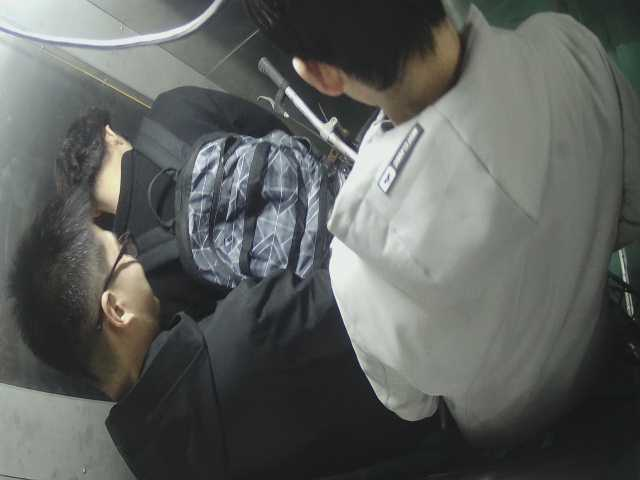bag: (162, 121, 363, 291)
person: (242, 1, 631, 462), (6, 192, 470, 476), (55, 89, 357, 301)
